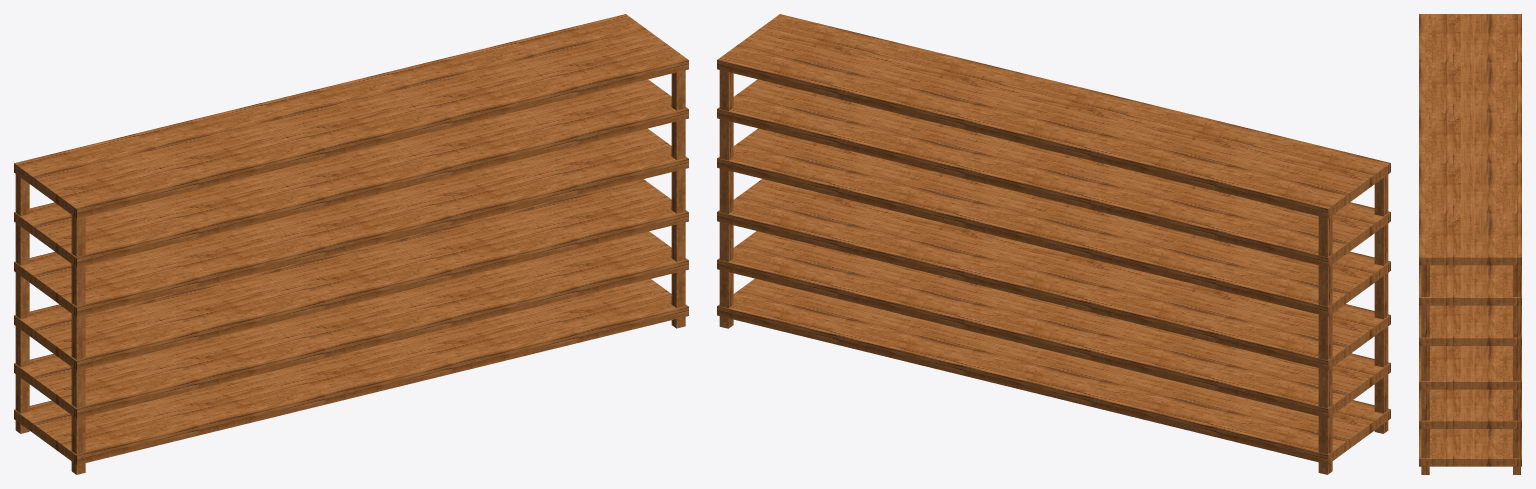
Rendered from CupBoard.FBX.
3 renders of one model, left to right at view 1: azimuth 30°, elevation 25°; view 2: azimuth 150°, elevation 25°; view 3: azimuth 270°, elevation 25°, orthographic. The views are drawn at different scales.
Visible parts, largest first — view 1: Box001; view 2: Box001; view 3: Box001.
Boxes of the visible parts, x1,y1,x2,y2 form: Box001: [14, 14, 688, 474]; Box001: [717, 14, 1390, 474]; Box001: [1419, 14, 1521, 474].
Bounding box in the file's own units: 210 × 87.4 × 37.36.
